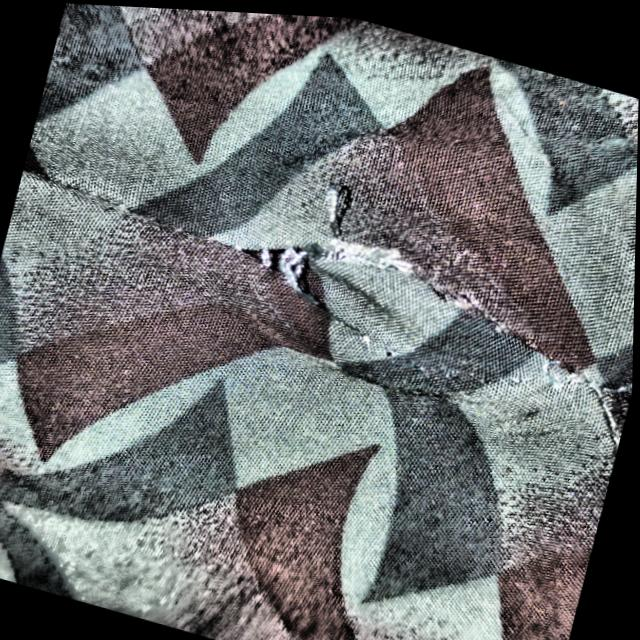seam: (165, 144, 638, 515)
